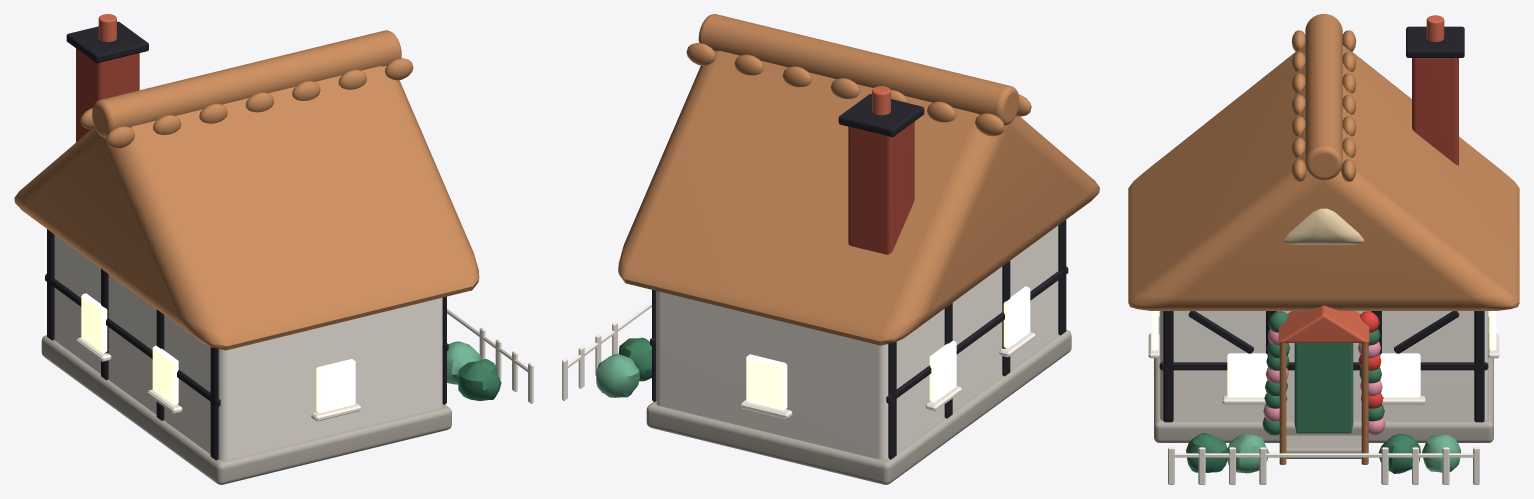
Rendered from cottage.glb.
3 renders of one model, left to right at view 1: azimuth 30°, elevation 25°; view 2: azimuth 150°, elevation 25°; view 3: azimuth 270°, elevation 25°, orthographic. The views are drawn at different scales.
Visible parts, largest first — view 1: cottage; view 2: cottage; view 3: cottage.
Part boxes in pixels (<box>): cottage: <box>14,14,533,484</box>; cottage: <box>562,14,1099,484</box>; cottage: <box>1128,14,1519,484</box>.
Bounding box in the file's own units: 6.69 × 6.3 × 6.68.
Materials: 1 (1 with a texture image).
